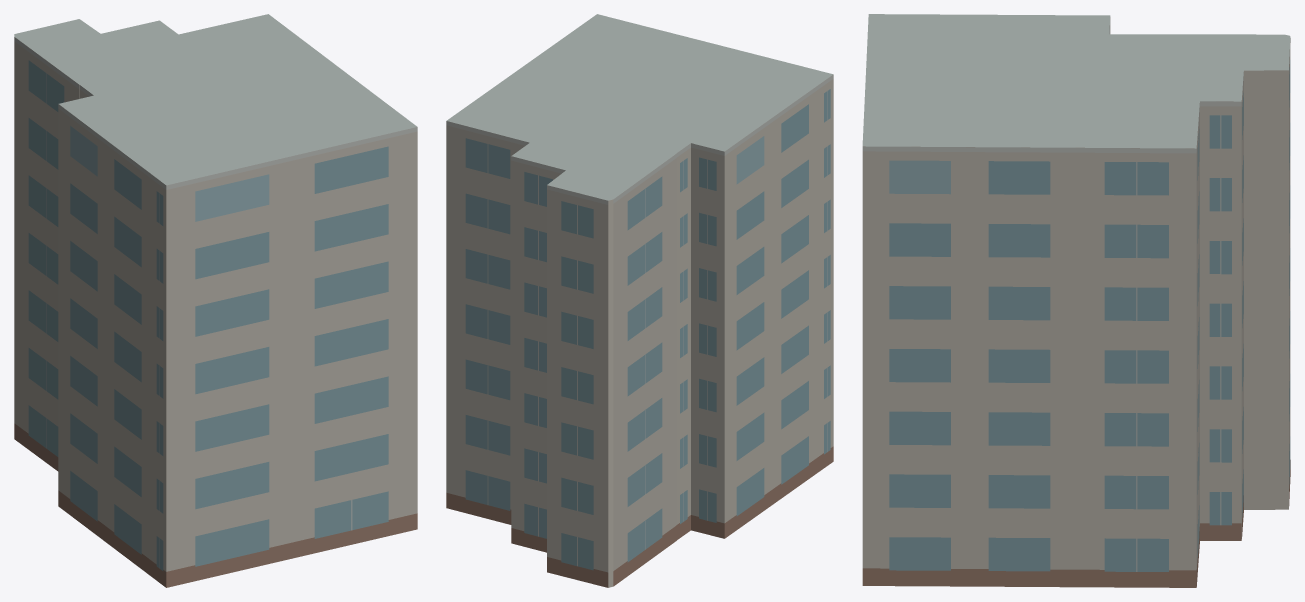
File: survey-upis-32749103.glb
3 views of the same model, side by side, from view 1: azimuth 30°, elevation 25°; view 2: azimuth 150°, elevation 25°; view 3: azimuth 270°, elevation 25° (orthographic). The views are drawn at different scales.
Parts seen in each view (by area): view 1: survey-upis-32749103.tmp; view 2: survey-upis-32749103.tmp; view 3: survey-upis-32749103.tmp.
Boxes of the visible parts, <box> form: survey-upis-32749103.tmp: <box>14,14,417,587</box>; survey-upis-32749103.tmp: <box>446,14,833,587</box>; survey-upis-32749103.tmp: <box>862,14,1290,587</box>.
Bounding box in the file's own units: 14.19 × 21.6 × 19.07.
